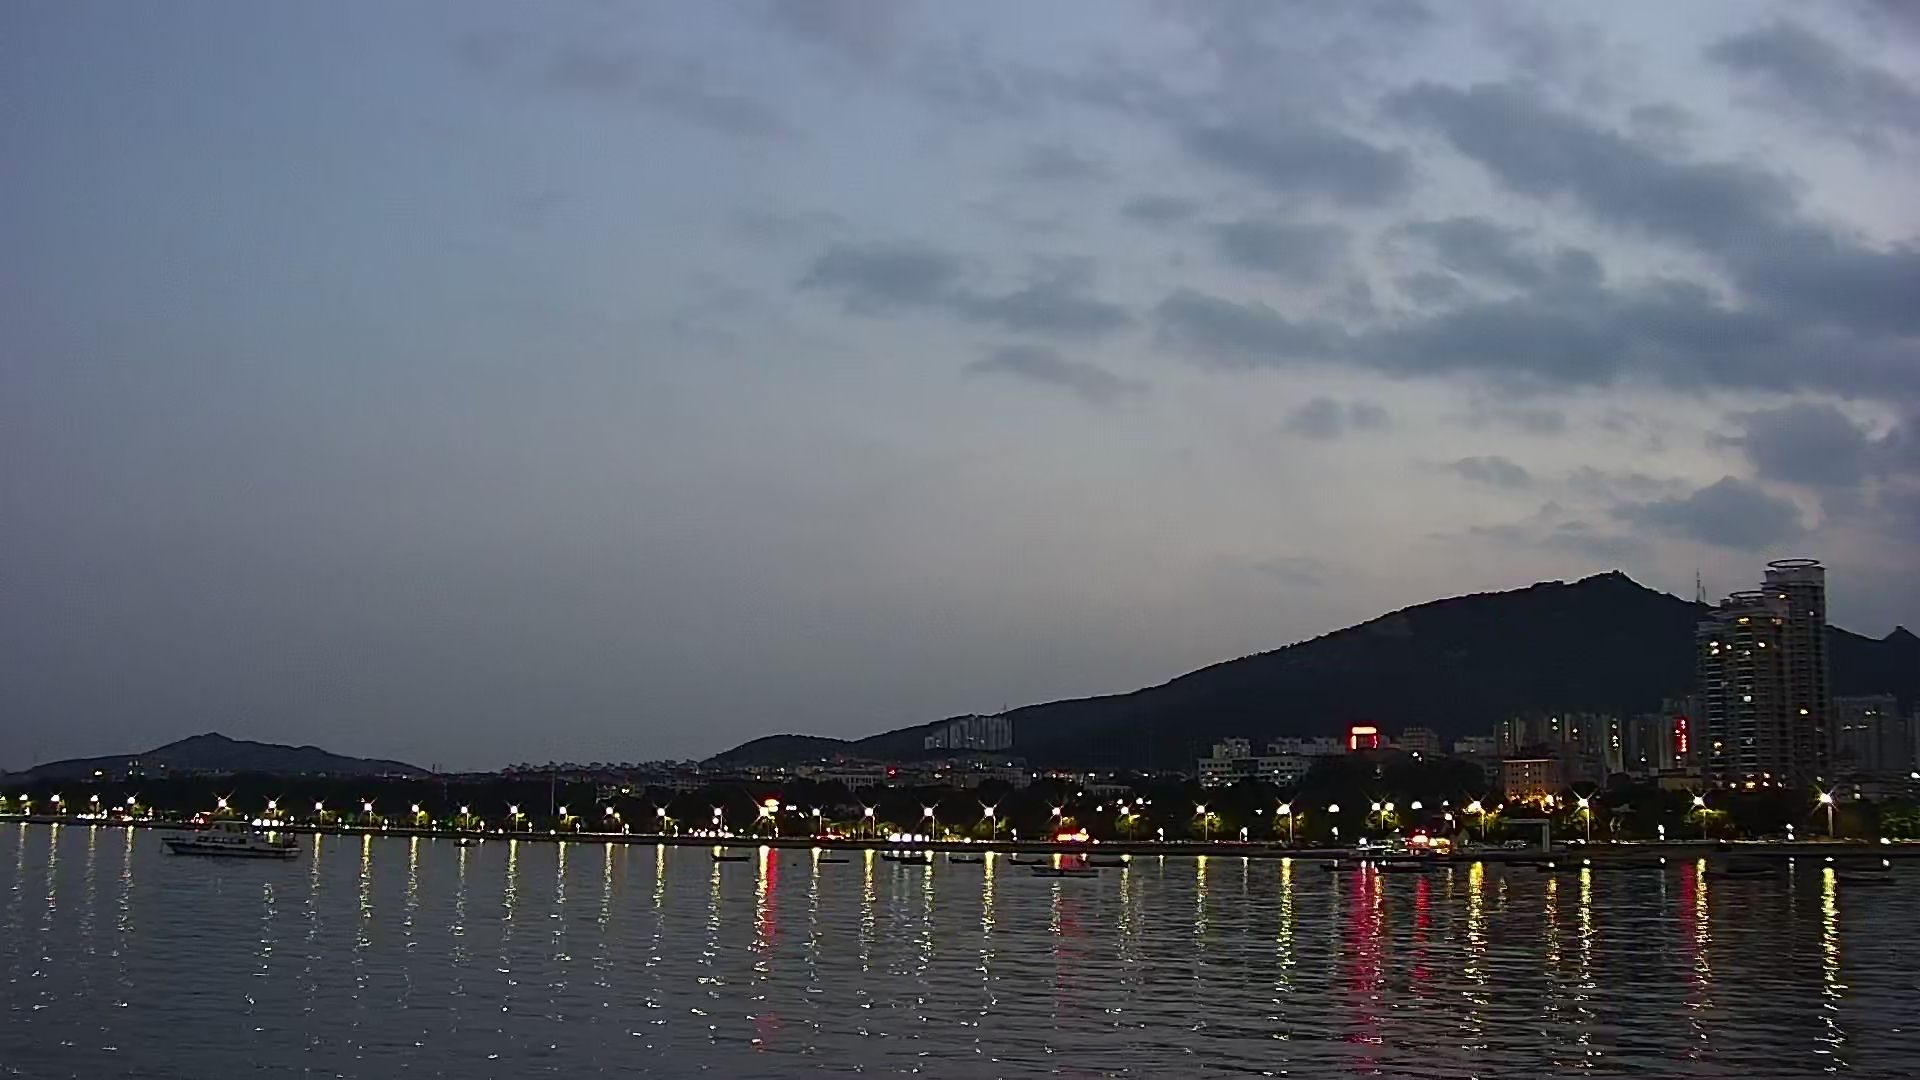ship: (146, 814, 316, 876)
